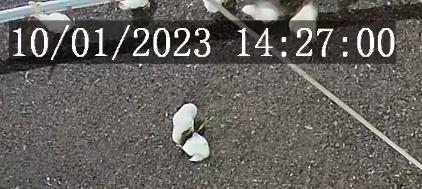chick: (172, 103, 205, 144), (288, 1, 319, 41), (242, 1, 281, 25), (180, 132, 211, 162), (34, 14, 76, 33)
